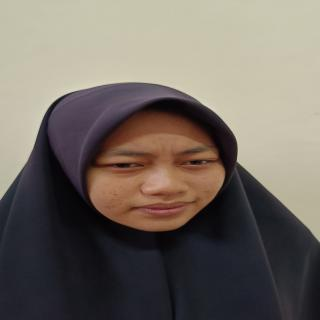Marah: (81, 106, 245, 239)
